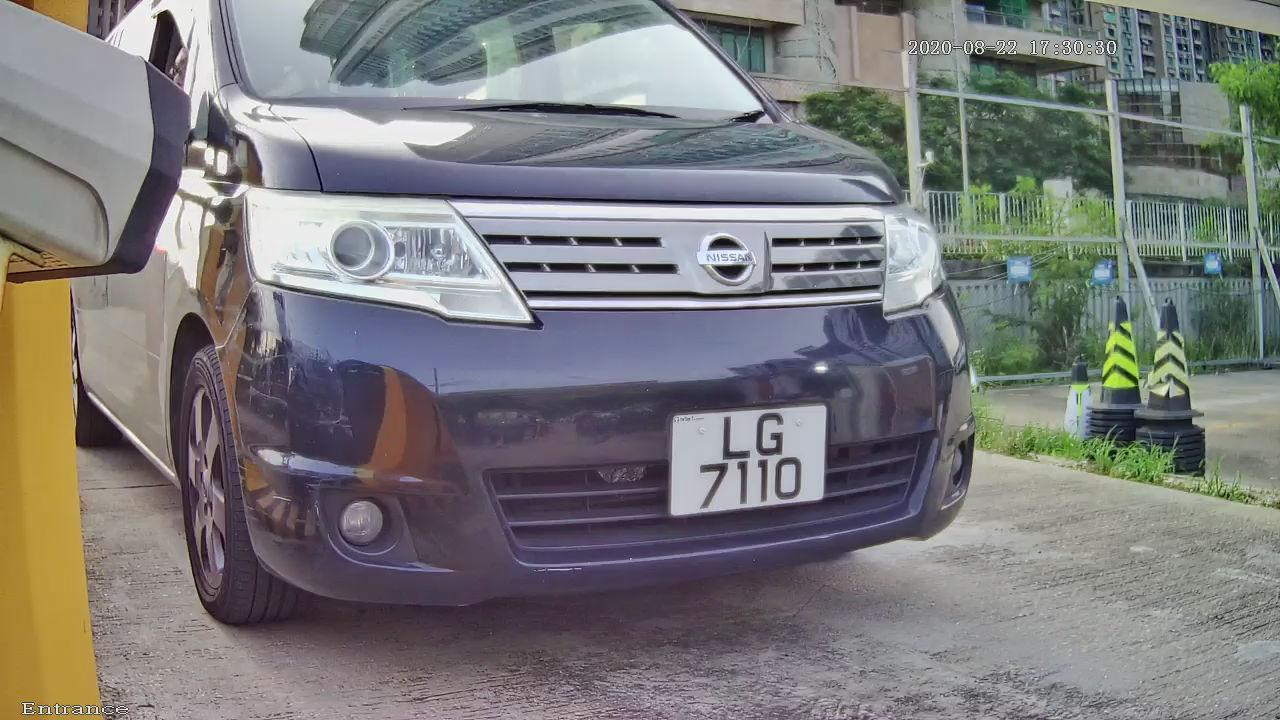Car: (58, 7, 1069, 653)
License Plate: (652, 386, 846, 531)
